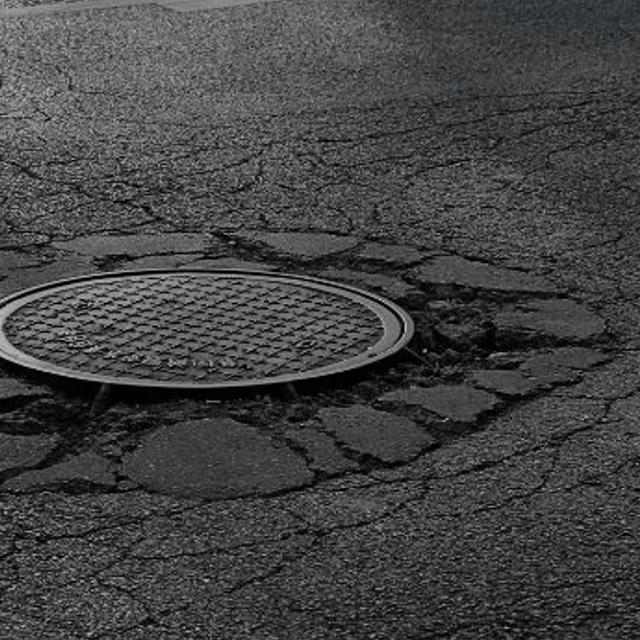circle: (0, 195, 570, 530)
